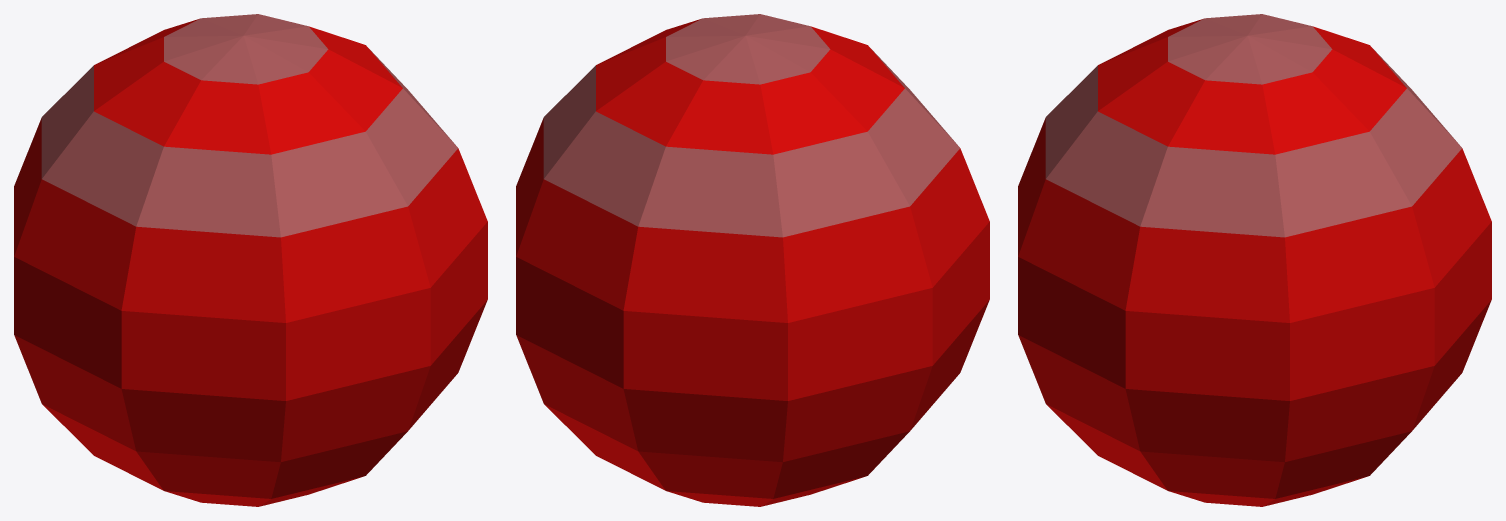
File: Part1 RedPlayer.fbx
3 renders of one model, left to right at view 1: azimuth 30°, elevation 25°; view 2: azimuth 150°, elevation 25°; view 3: azimuth 270°, elevation 25°, orthographic.
Parts seen in each view (by area): view 1: RedPlayer; view 2: RedPlayer; view 3: RedPlayer.
Part boxes in pixels (left/top/right/bottom): RedPlayer: left=14, top=14, right=487, bottom=506; RedPlayer: left=516, top=14, right=989, bottom=506; RedPlayer: left=1018, top=14, right=1491, bottom=506.
Bounding box in the file's own units: 67.89 × 70 × 66.86.
